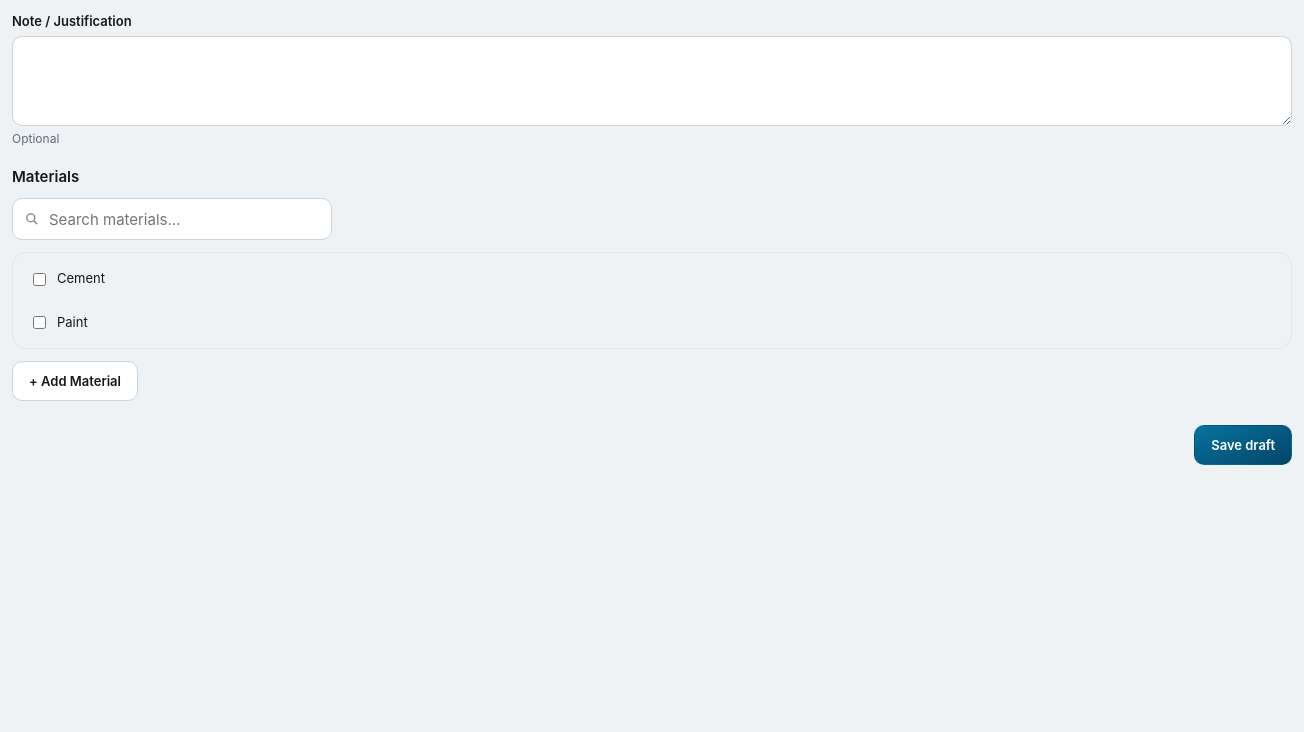
Test: DemandForm — catalog picker › a selected item with quantity  is reported, never silently dropped
The width and height of the screenshot is (1304, 732).
Click the checkbox labelled "Cement": click(40, 279) [33, 272, 46, 286]
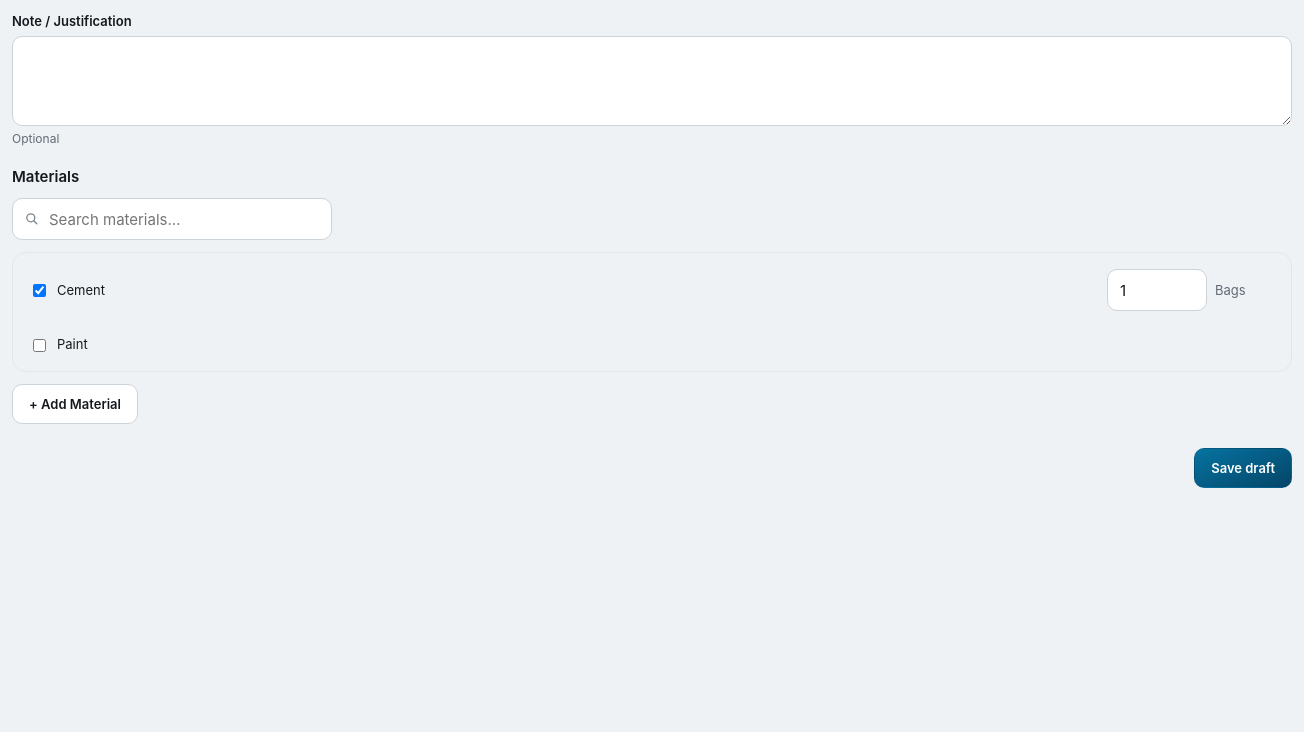
Replace the text in the number field named "Quantity for Cement" with "50": (1157, 290) [1107, 269, 1207, 311]
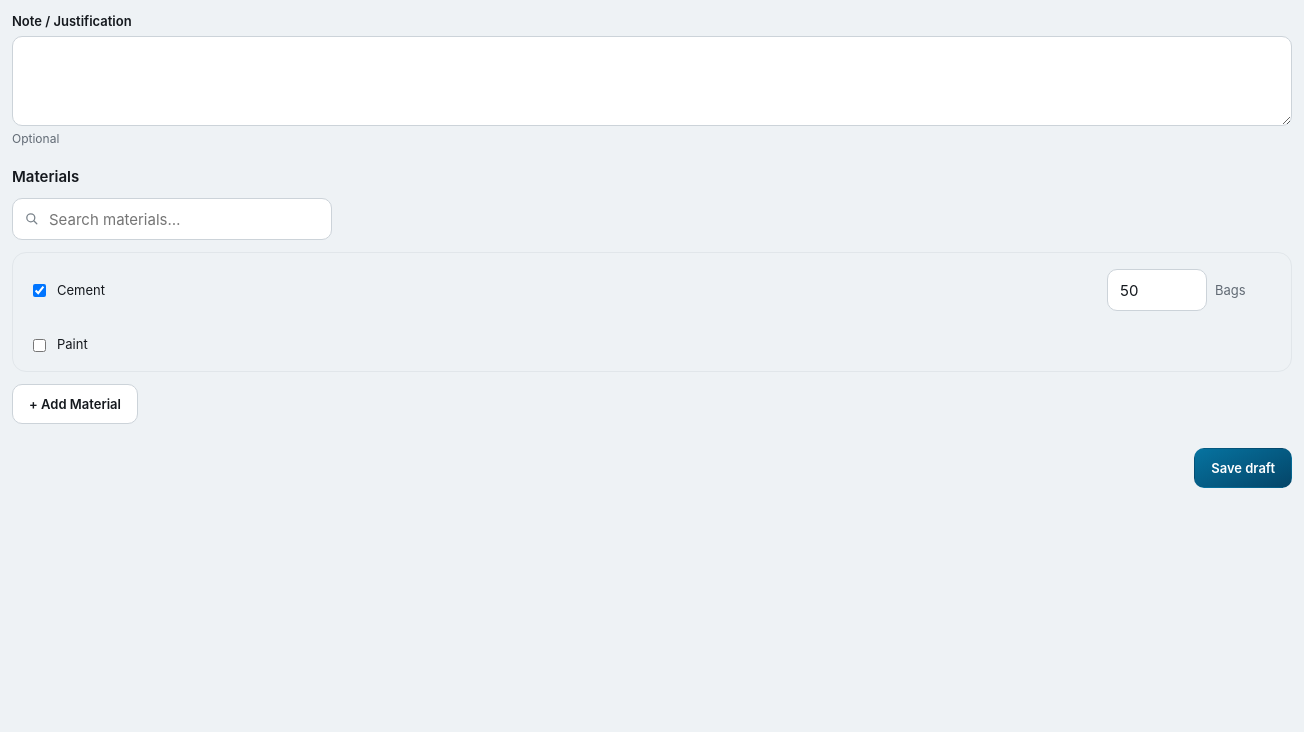
Click the checkbox labelled "Paint": click(40, 345) [33, 338, 46, 352]
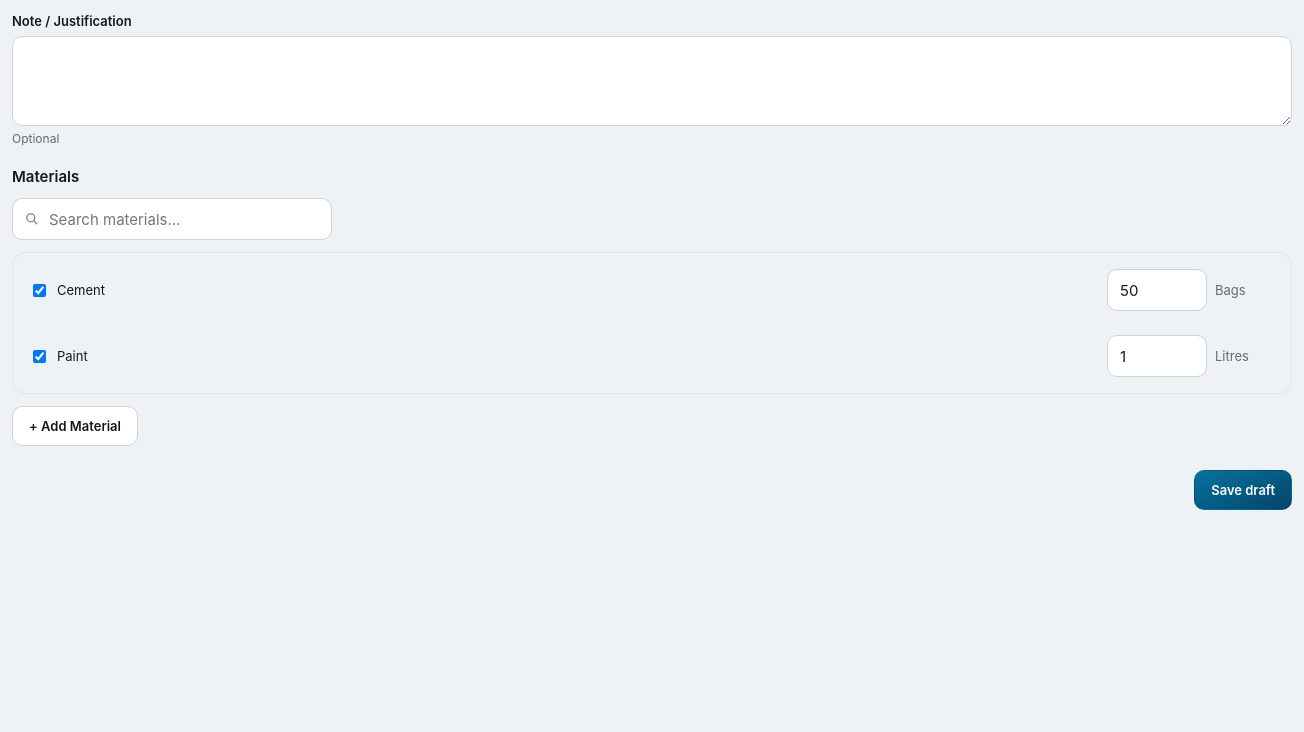
Clear the number field named "Quantity for Paint": (1157, 356) [1107, 335, 1207, 377]
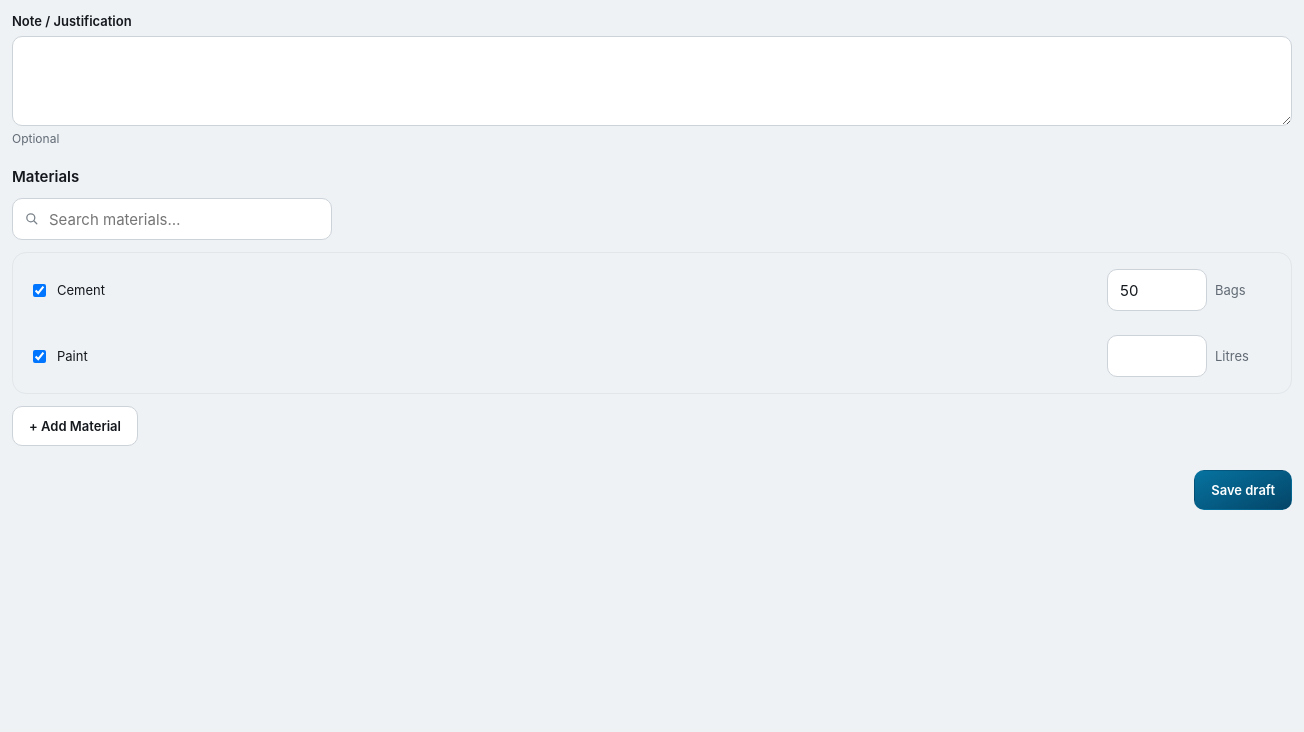
Click the button "Save draft": click(1243, 490) [1194, 470, 1292, 510]
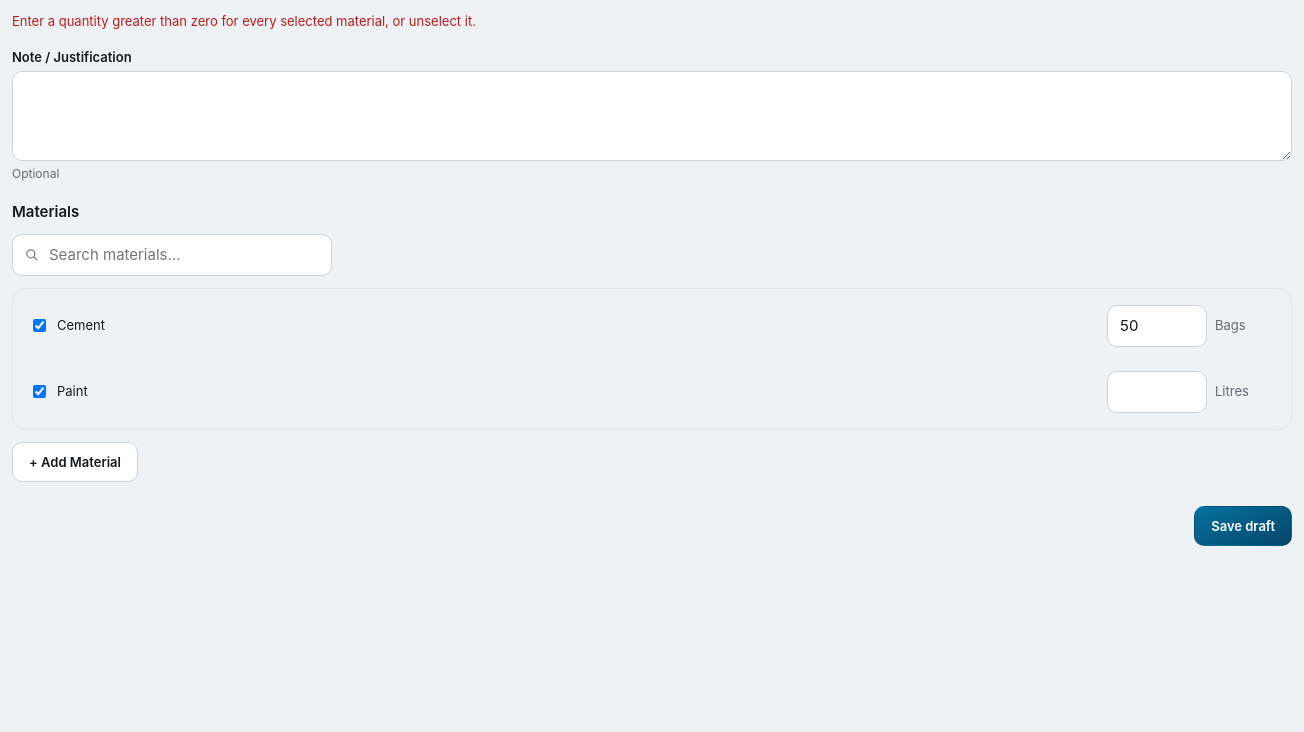
Expected: the message shows "quantity greater than zero", [12, 13, 476, 29]
